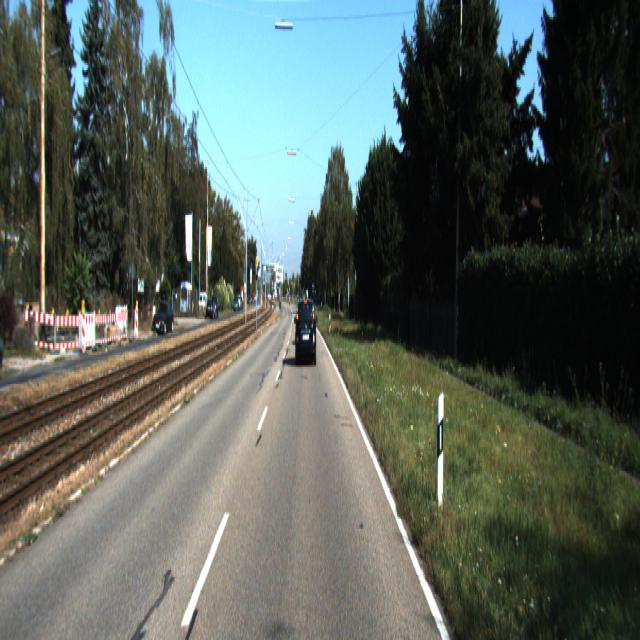Car: (296, 296, 317, 366), (153, 303, 175, 339)
